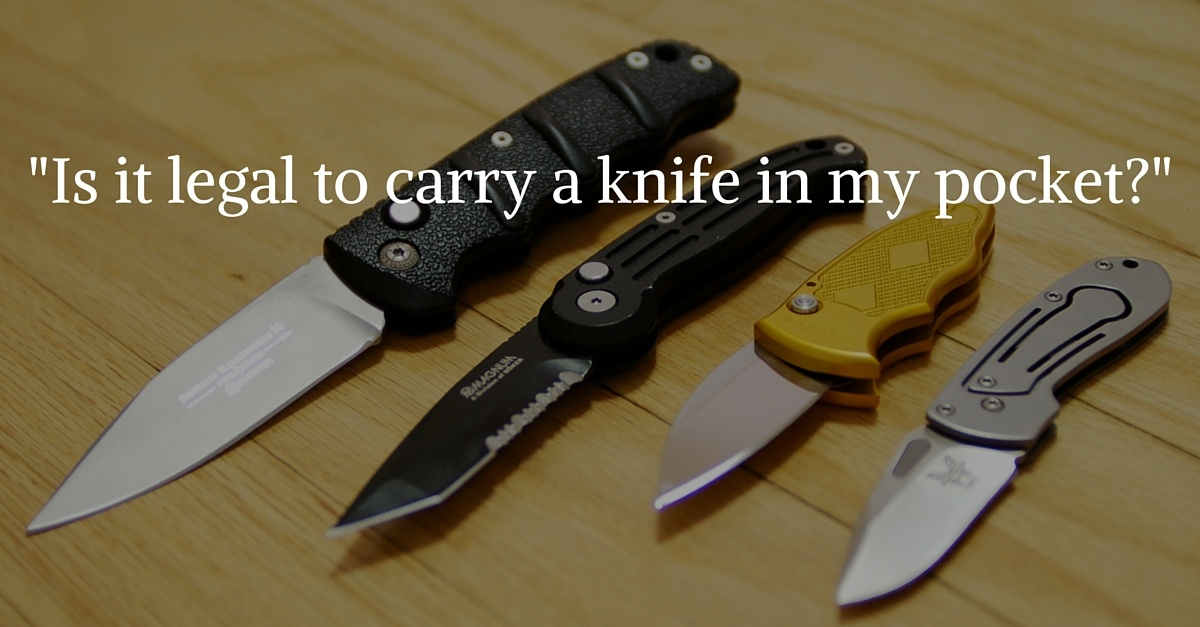knife: (24, 32, 741, 570), (323, 127, 870, 550), (830, 255, 1177, 610), (652, 196, 1003, 514)
